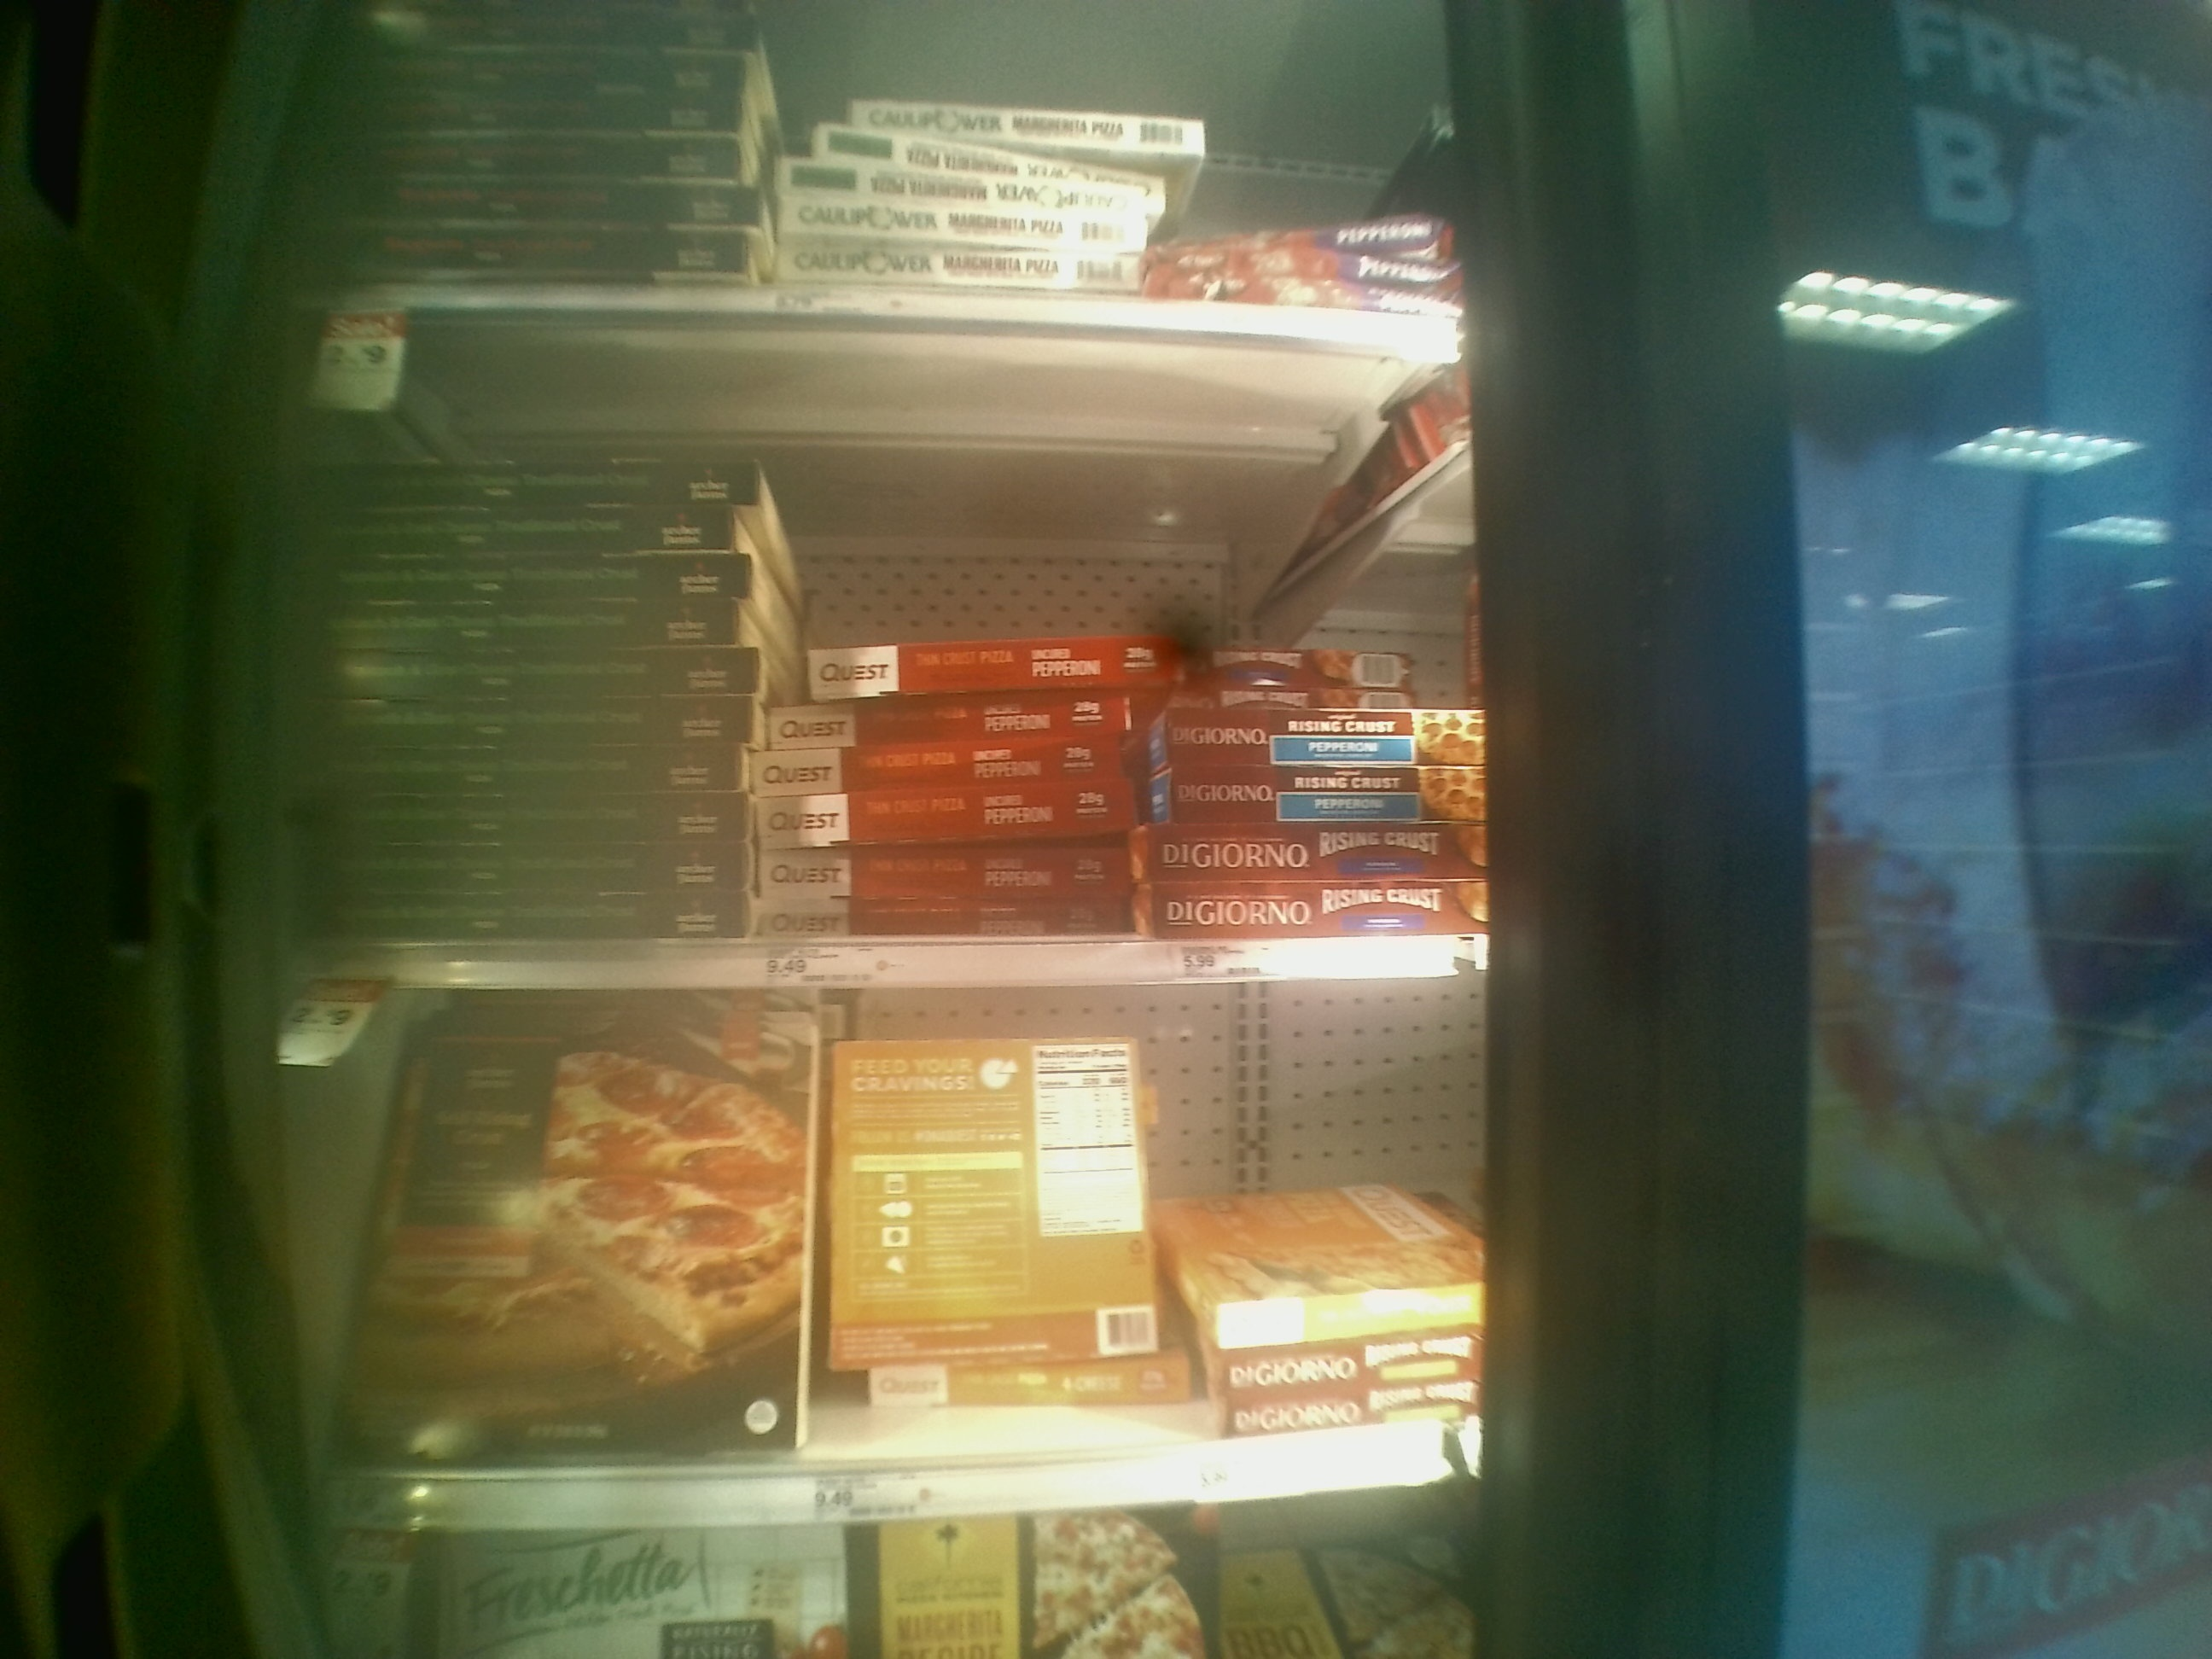shelf: (303, 978, 1514, 1535)
